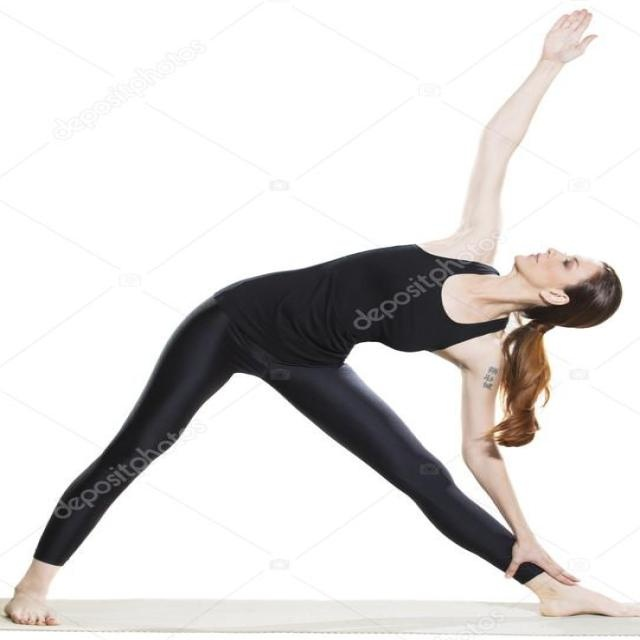Triangle_Pose: (3, 8, 638, 626)
